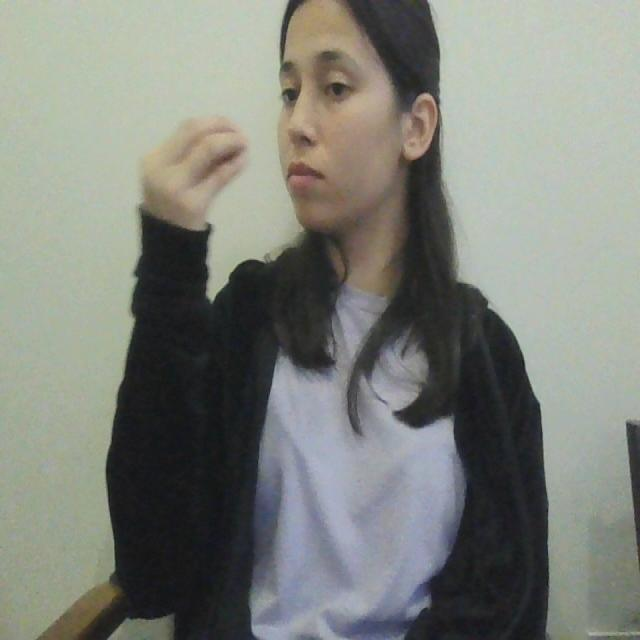Yemek: (140, 114, 335, 211)
